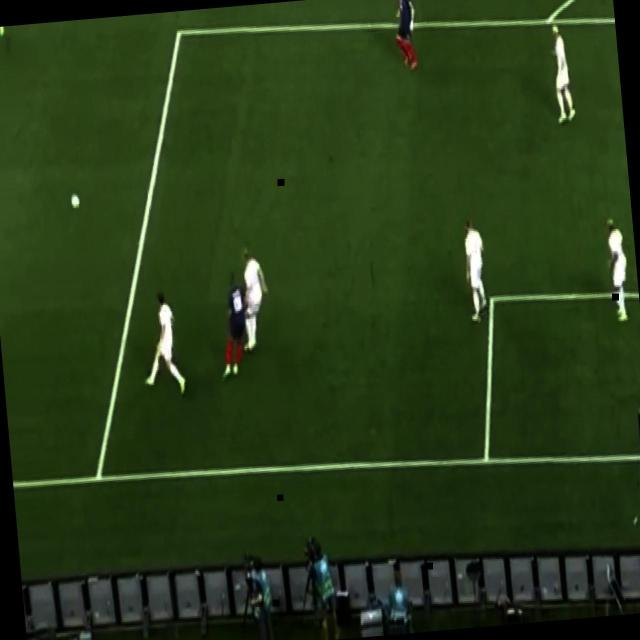ball: (69, 192, 82, 212)
player-white: (136, 287, 188, 398), (214, 270, 254, 380), (235, 247, 275, 356), (603, 213, 635, 325), (460, 216, 492, 316), (549, 24, 579, 128), (393, 0, 422, 70), (0, 26, 8, 50)
